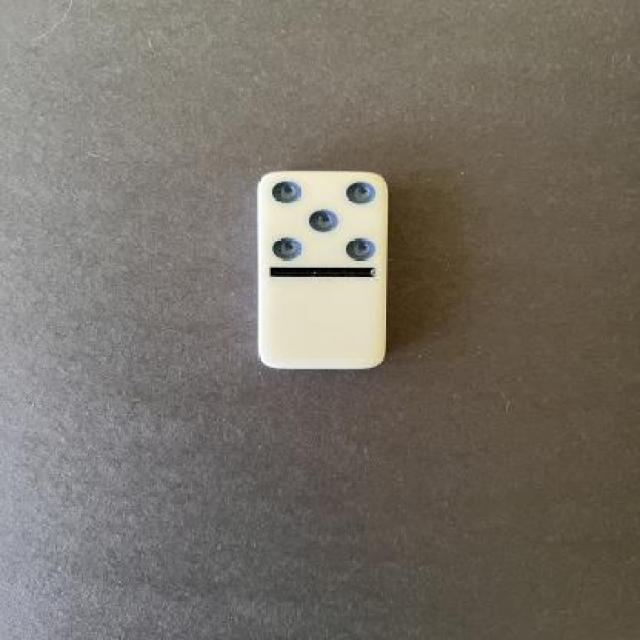domino: (254, 166, 392, 374)
